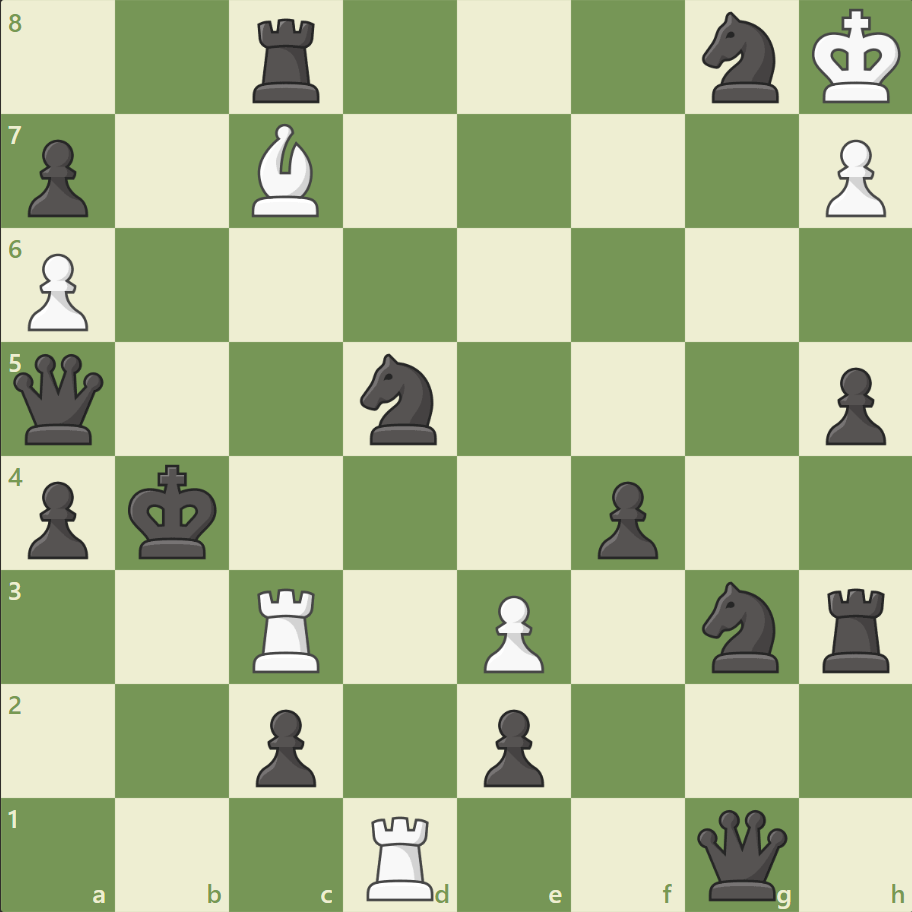B: (244, 120, 328, 222)
K: (806, 4, 906, 112)
P: (20, 246, 95, 337), (474, 586, 549, 677), (815, 132, 889, 223)
R: (246, 579, 329, 676), (360, 806, 442, 904)
k: (124, 458, 224, 566)
n: (351, 348, 449, 450), (692, 7, 789, 110), (692, 575, 789, 677)
p: (20, 132, 95, 223), (20, 473, 95, 564), (247, 700, 322, 791), (474, 700, 549, 791), (815, 359, 889, 450), (588, 473, 662, 564)
q: (10, 349, 109, 449), (691, 804, 790, 903)
r: (246, 12, 329, 109), (814, 579, 897, 676)
